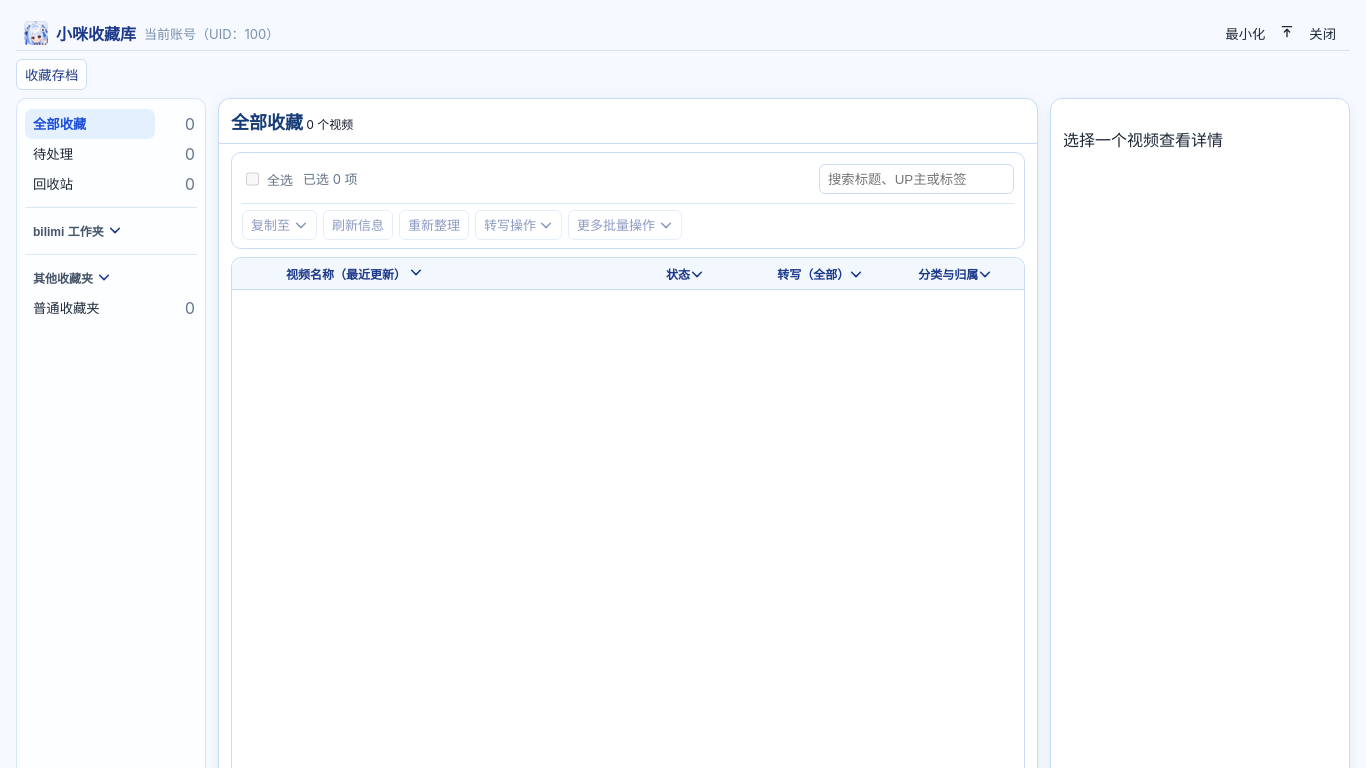
FavoriteLibraryApp › shows no ledger binding state for an ordinary Bilibili folder
Click the button "普通收藏夹": [90, 308] box x1=25 y1=293 x2=155 y2=323
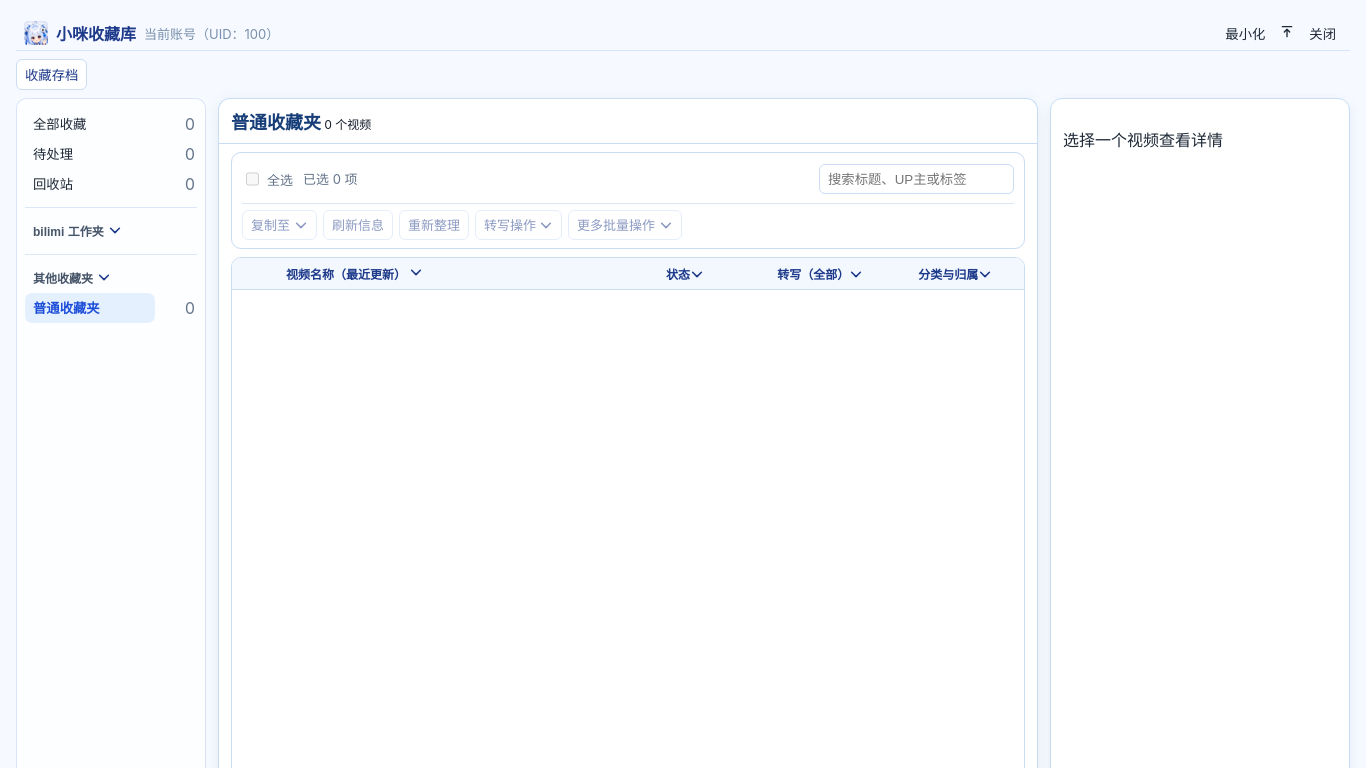
Now the heading "普通收藏夹 0 个视频" is shown, box x1=231 y1=111 x2=371 y2=135
